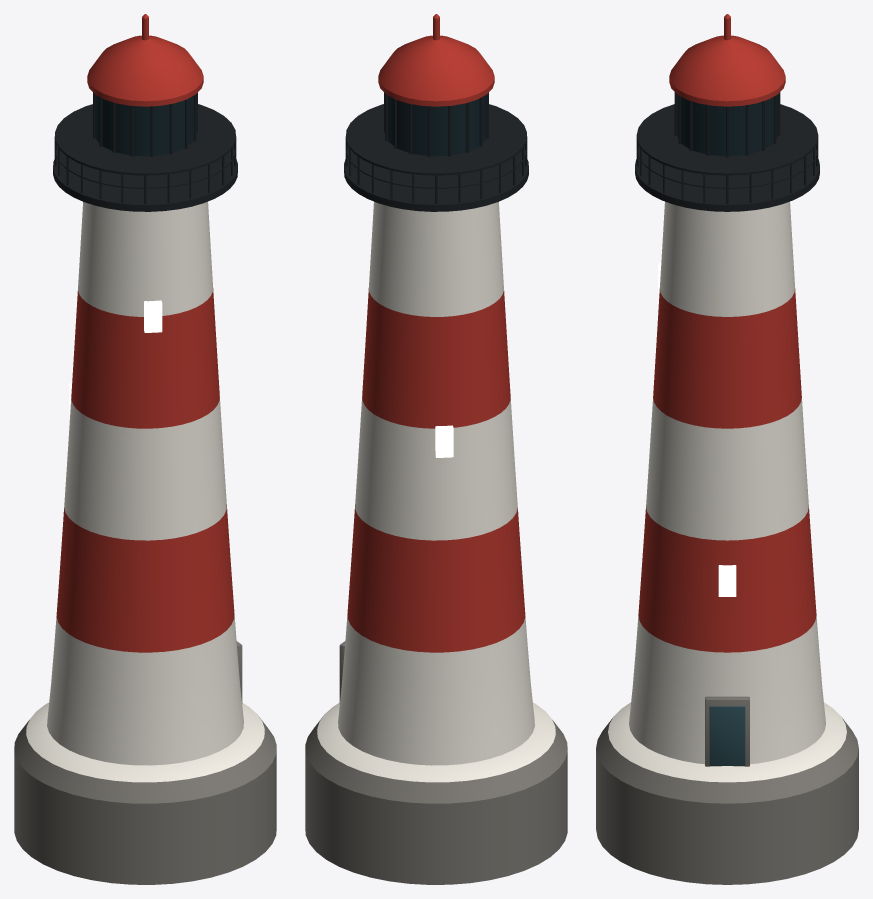
The model's file is lighthouse.glb.
3 renders of one model, left to right at view 1: azimuth 30°, elevation 25°; view 2: azimuth 150°, elevation 25°; view 3: azimuth 270°, elevation 25°, orthographic.
Parts seen in each view (by area): view 1: lighthouse; view 2: lighthouse; view 3: lighthouse.
Boxes of the visible parts, x1,y1,x2,y2 form: lighthouse: (14,14,276,884); lighthouse: (305,14,567,884); lighthouse: (596,14,858,884).
Bounding box in the file's own units: 8.8 × 30.1 × 8.8.
